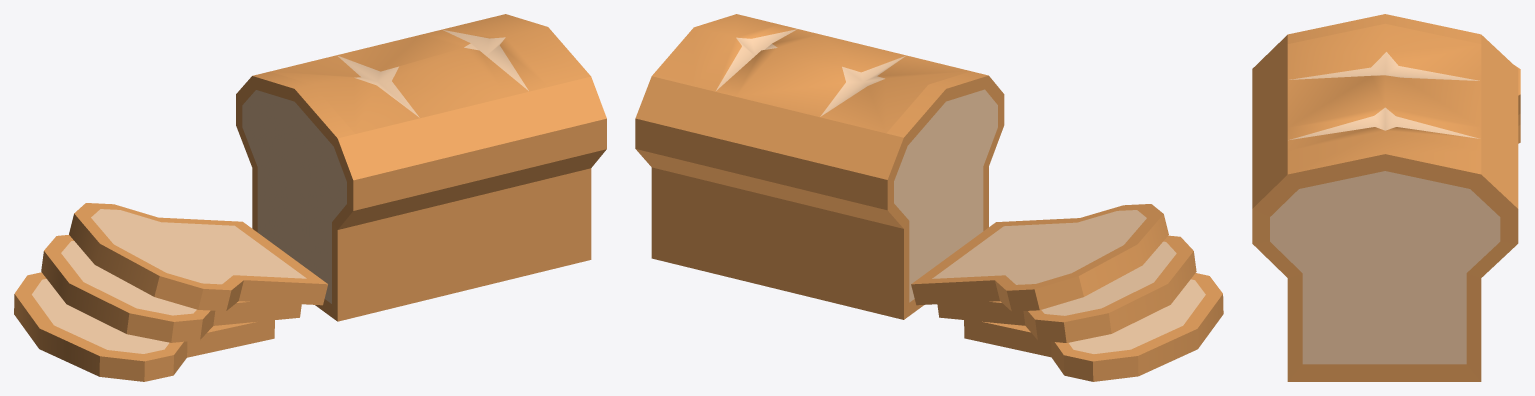
Rendered from bread.FBX.
3 views of the same model, side by side, from view 1: azimuth 30°, elevation 25°; view 2: azimuth 150°, elevation 25°; view 3: azimuth 270°, elevation 25° (orthographic). The views are drawn at different scales.
Visible parts, largest first — view 1: Object001, Object003, Object005, Object004; view 2: Object001, Object003, Object005, Object004; view 3: Object001.
Boxes of the visible parts, box(x1,y1,x2,y2) form: Object001: box(236, 14, 606, 321); Object003: box(69, 203, 327, 311); Object005: box(14, 272, 274, 381); Object004: box(41, 235, 301, 342); Object001: box(635, 14, 1004, 319); Object003: box(911, 204, 1168, 311); Object005: box(964, 273, 1223, 381); Object004: box(936, 235, 1196, 342); Object001: box(1252, 14, 1518, 381).
Size of the model in its own units: 107 by 41 by 43.22.
